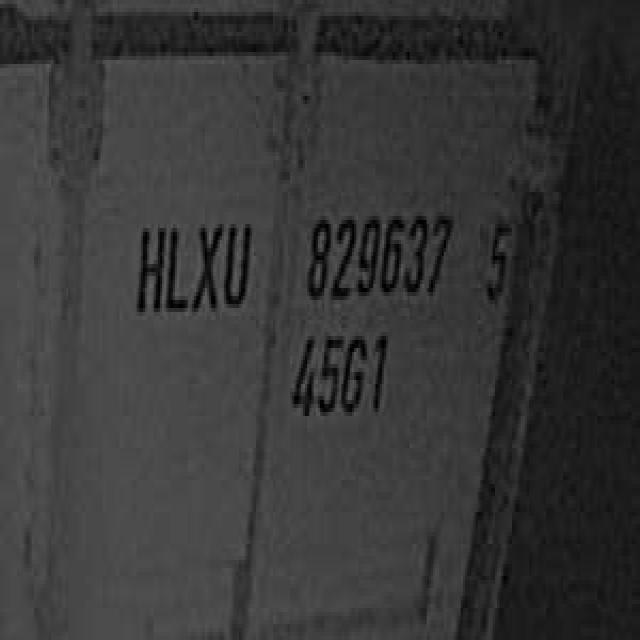dv: (476, 200, 516, 308)
owner: (128, 204, 256, 328)
serial: (303, 196, 454, 308)
size: (286, 316, 395, 428)
